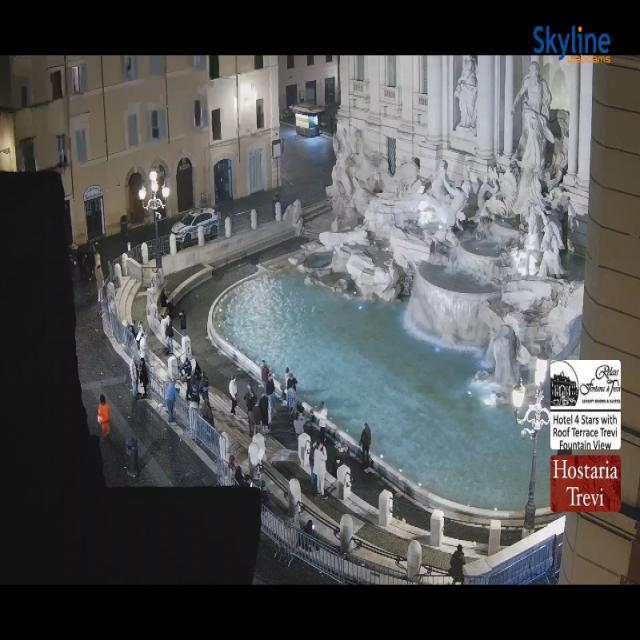person: (100, 289, 125, 328), (314, 435, 327, 496), (94, 264, 108, 317), (314, 442, 327, 497), (449, 545, 466, 583), (330, 445, 349, 477), (449, 545, 465, 583), (299, 519, 318, 551), (244, 385, 255, 436), (179, 356, 192, 399), (288, 386, 302, 424), (244, 460, 262, 489), (243, 460, 261, 489), (113, 313, 129, 345), (70, 243, 86, 275), (360, 424, 371, 470), (98, 395, 110, 436), (166, 383, 178, 424), (87, 243, 101, 274), (318, 402, 328, 442), (283, 369, 297, 397), (294, 504, 303, 547), (201, 400, 215, 427), (130, 355, 139, 397), (188, 371, 199, 405), (287, 386, 297, 423), (233, 464, 249, 487), (79, 250, 90, 283), (309, 442, 317, 487), (132, 320, 145, 347), (160, 289, 173, 316), (266, 373, 275, 411), (260, 393, 269, 431), (70, 244, 81, 275), (69, 245, 75, 301), (76, 246, 85, 283), (82, 245, 91, 282), (247, 468, 262, 490), (76, 249, 86, 282), (192, 359, 201, 395), (86, 245, 95, 281), (136, 322, 145, 357), (140, 358, 148, 397), (229, 376, 237, 415), (120, 216, 130, 247), (260, 480, 271, 508), (193, 362, 202, 396), (90, 242, 101, 269), (244, 384, 255, 411), (85, 242, 95, 271), (294, 411, 306, 435), (165, 318, 173, 354), (244, 472, 260, 490), (158, 303, 171, 325), (179, 356, 192, 378), (88, 246, 96, 281), (253, 397, 261, 432), (228, 456, 239, 481), (170, 380, 180, 407), (235, 468, 249, 487), (96, 265, 103, 303), (281, 368, 289, 401), (261, 360, 269, 392), (91, 243, 101, 268), (160, 289, 170, 314), (123, 320, 136, 339), (199, 371, 208, 398), (318, 402, 327, 429), (159, 313, 170, 335), (242, 473, 258, 488), (200, 372, 208, 402), (104, 286, 114, 309), (123, 320, 135, 339), (244, 473, 259, 488), (314, 402, 324, 424), (294, 390, 304, 412), (282, 368, 289, 399), (69, 243, 78, 267), (139, 331, 147, 357), (134, 322, 143, 345), (179, 311, 187, 336), (234, 465, 244, 485), (150, 270, 160, 290), (107, 296, 116, 318), (136, 322, 144, 346), (287, 372, 297, 391), (70, 242, 79, 263), (304, 519, 315, 536), (150, 270, 159, 290), (93, 243, 101, 265), (304, 519, 314, 536), (194, 360, 202, 381), (95, 251, 103, 272), (284, 370, 292, 390), (251, 476, 262, 490), (284, 368, 291, 390), (90, 242, 99, 259), (109, 297, 116, 317), (228, 455, 236, 472), (160, 290, 167, 309), (296, 398, 304, 414), (319, 426, 326, 443), (295, 505, 302, 522), (268, 402, 272, 429), (167, 300, 174, 315), (97, 303, 104, 317), (129, 324, 136, 338), (122, 320, 130, 332), (556, 449, 571, 455), (72, 243, 79, 255), (397, 515, 406, 523), (212, 270, 215, 278)
